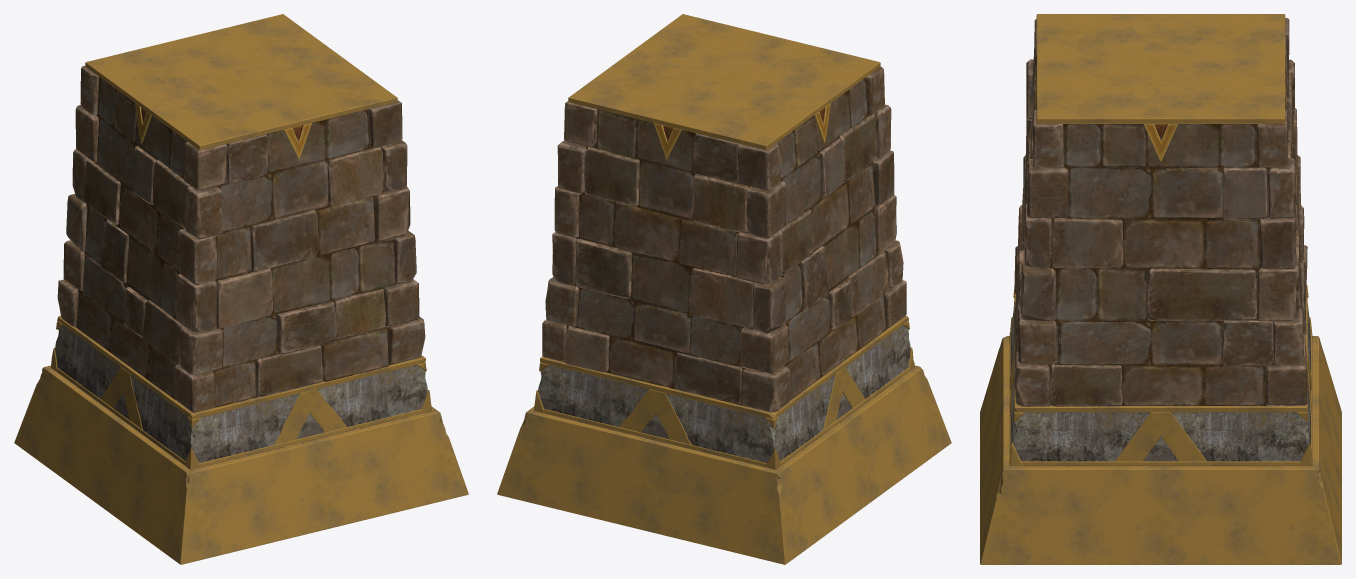
3 renders of one model, left to right at view 1: azimuth 30°, elevation 25°; view 2: azimuth 150°, elevation 25°; view 3: azimuth 270°, elevation 25°, orthographic. The views are drawn at different scales.
Visible parts, largest first — view 1: SM_DK_16m_TowerBase_012_LOD0; view 2: SM_DK_16m_TowerBase_012_LOD0; view 3: SM_DK_16m_TowerBase_012_LOD0.
Boxes of the visible parts, x1,y1,x2,y2 form: SM_DK_16m_TowerBase_012_LOD0: (14, 14, 468, 564); SM_DK_16m_TowerBase_012_LOD0: (497, 14, 951, 564); SM_DK_16m_TowerBase_012_LOD0: (980, 14, 1341, 564).
Bounding box in the file's own units: 9.36 × 12.06 × 9.36.
Materials: 6 (6 with a texture image).
